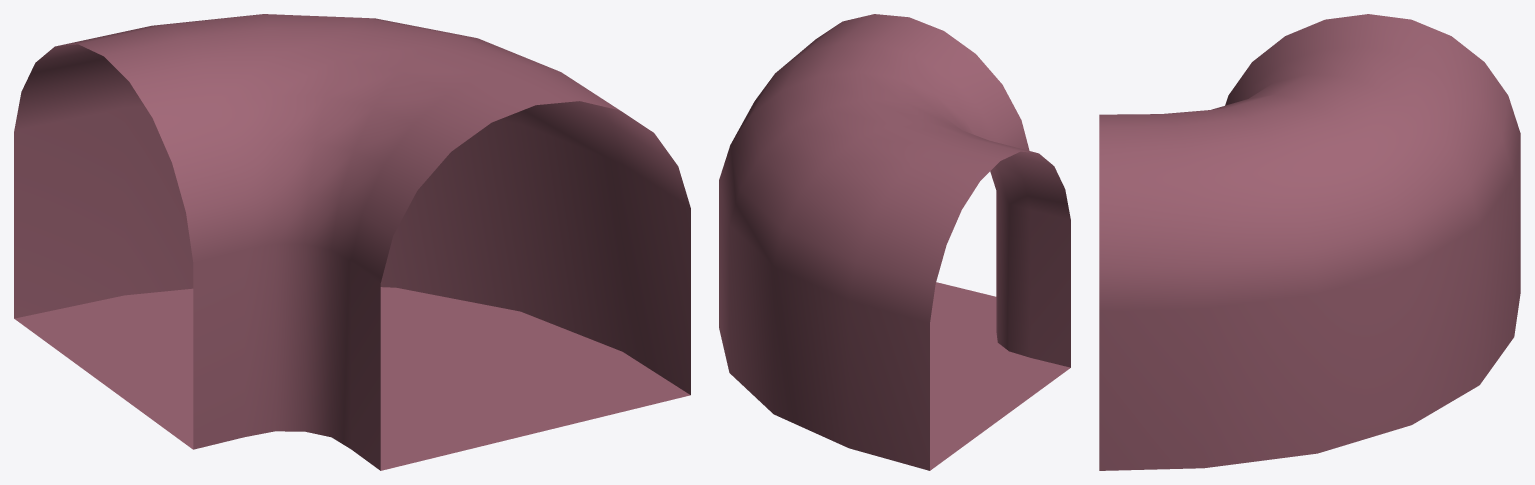
Rendered from mesh_TileTunelCurva.fbx.
3 views of the same model, side by side, from view 1: azimuth 30°, elevation 25°; view 2: azimuth 150°, elevation 25°; view 3: azimuth 270°, elevation 25° (orthographic). The views are drawn at different scales.
Visible parts, largest first — view 1: mesh_TileTunelCurva; view 2: mesh_TileTunelCurva; view 3: mesh_TileTunelCurva.
Boxes of the visible parts, x1,y1,x2,y2 form: mesh_TileTunelCurva: (14, 14, 690, 470); mesh_TileTunelCurva: (719, 14, 1070, 470); mesh_TileTunelCurva: (1099, 14, 1520, 470).
Bounding box in the file's own units: 2166 × 1582 × 2166.
